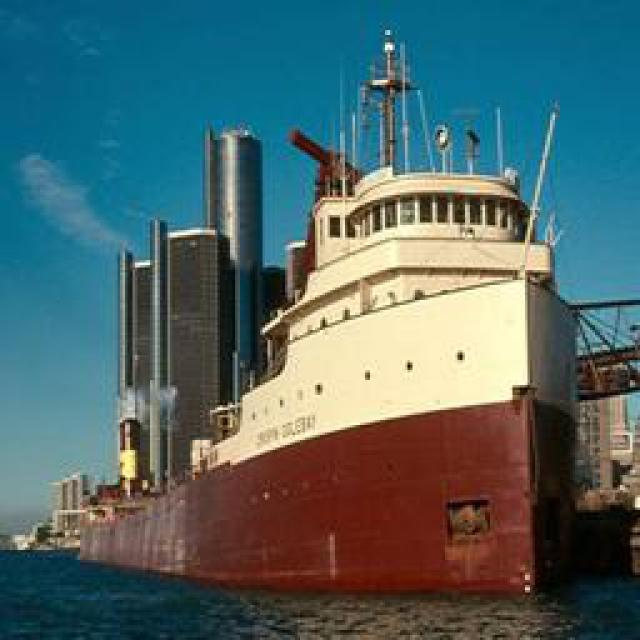Ship: (107, 30, 577, 618)
